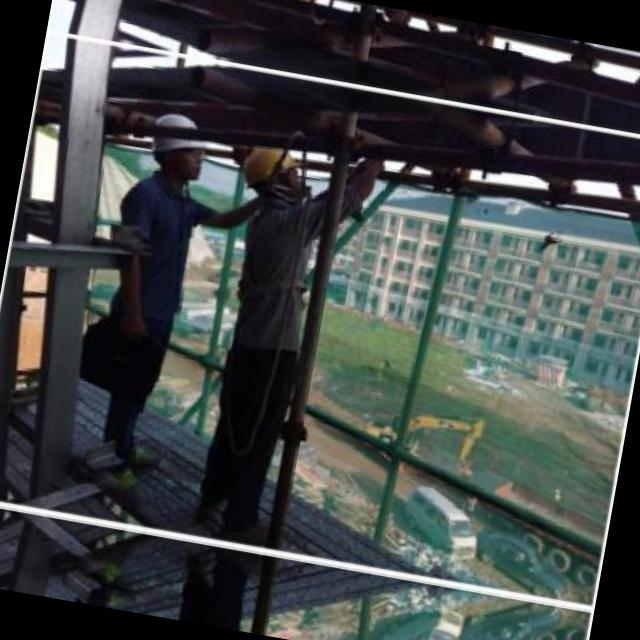helmet: (138, 102, 218, 178), (230, 138, 312, 206), (167, 0, 243, 10)
